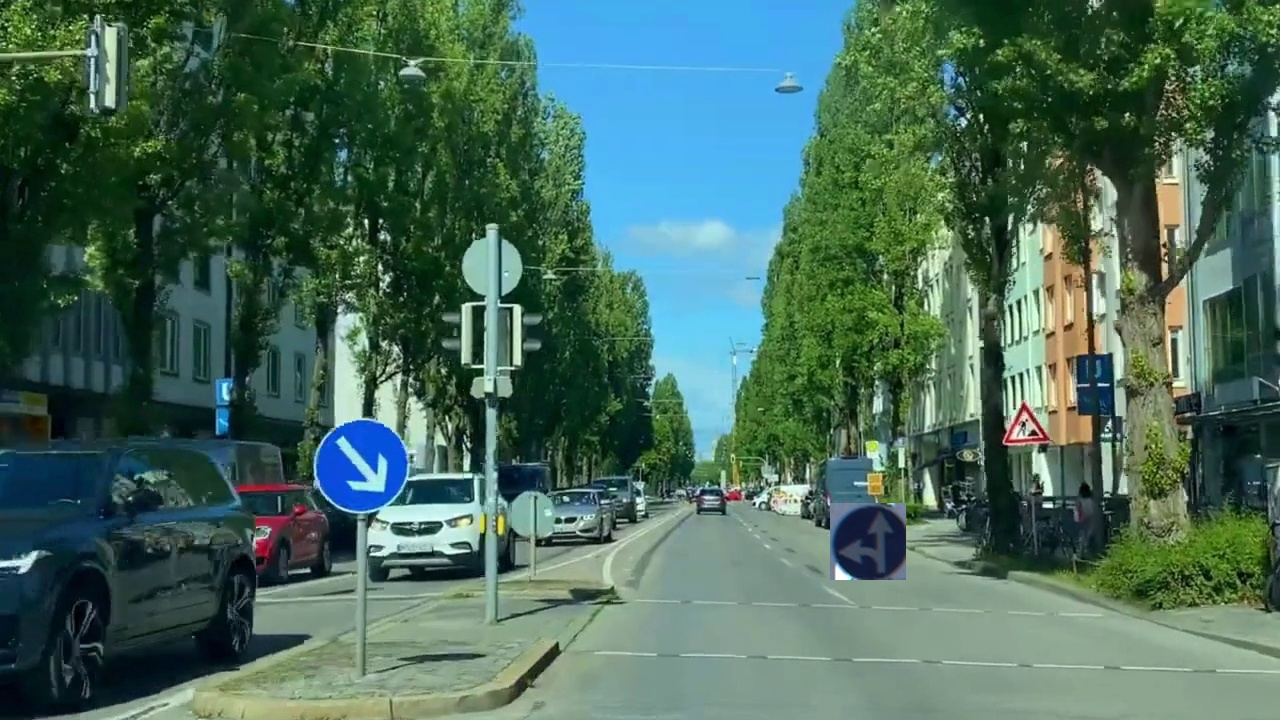Straight/left: (830, 503, 906, 580)
